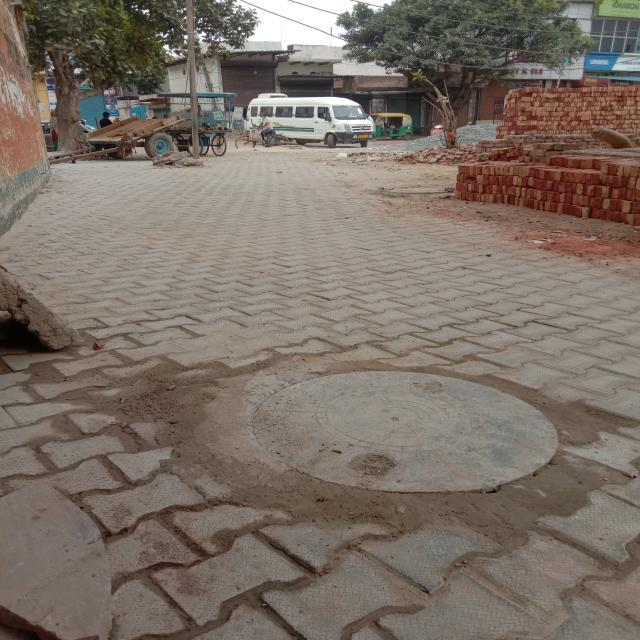Travller: (226, 90, 406, 152)
